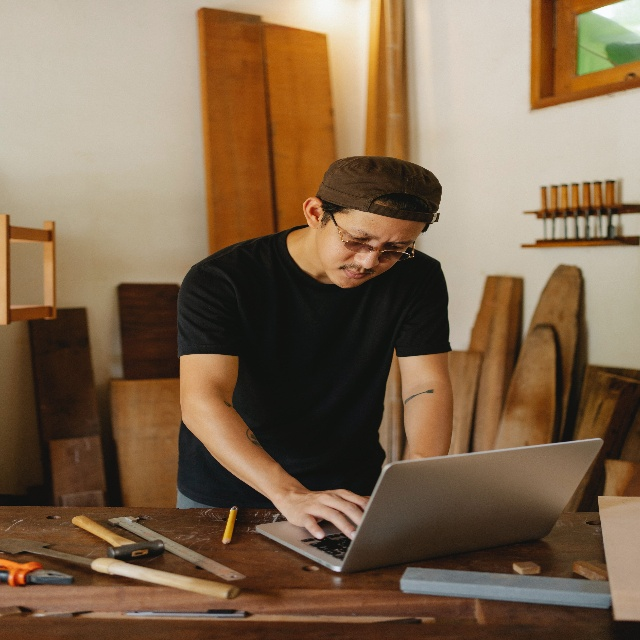Gafas: (327, 209, 416, 262)
Sin_guantes: (282, 488, 371, 541)
